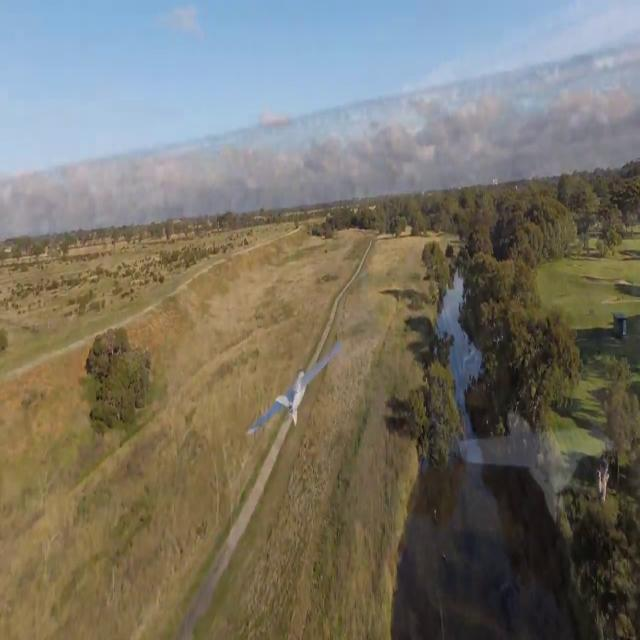iha: (282, 371, 311, 394)
